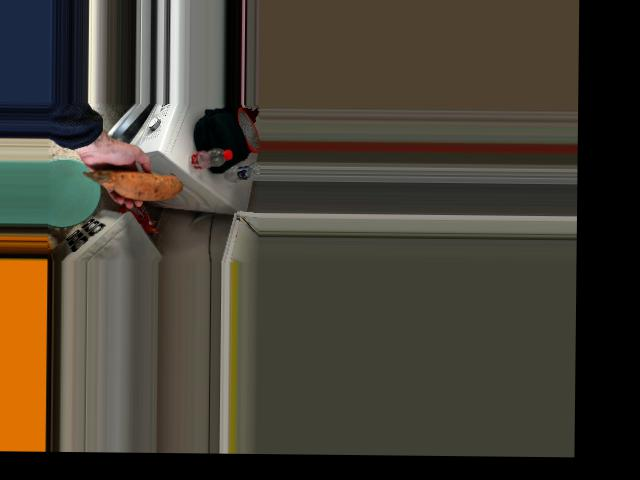sweet_potato: (97, 169, 181, 203)
